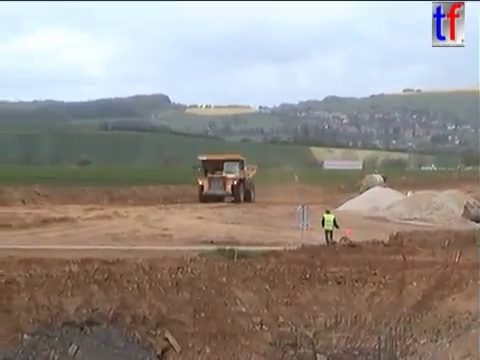truck: (192, 152, 257, 204), (319, 207, 342, 248), (358, 168, 389, 198)
